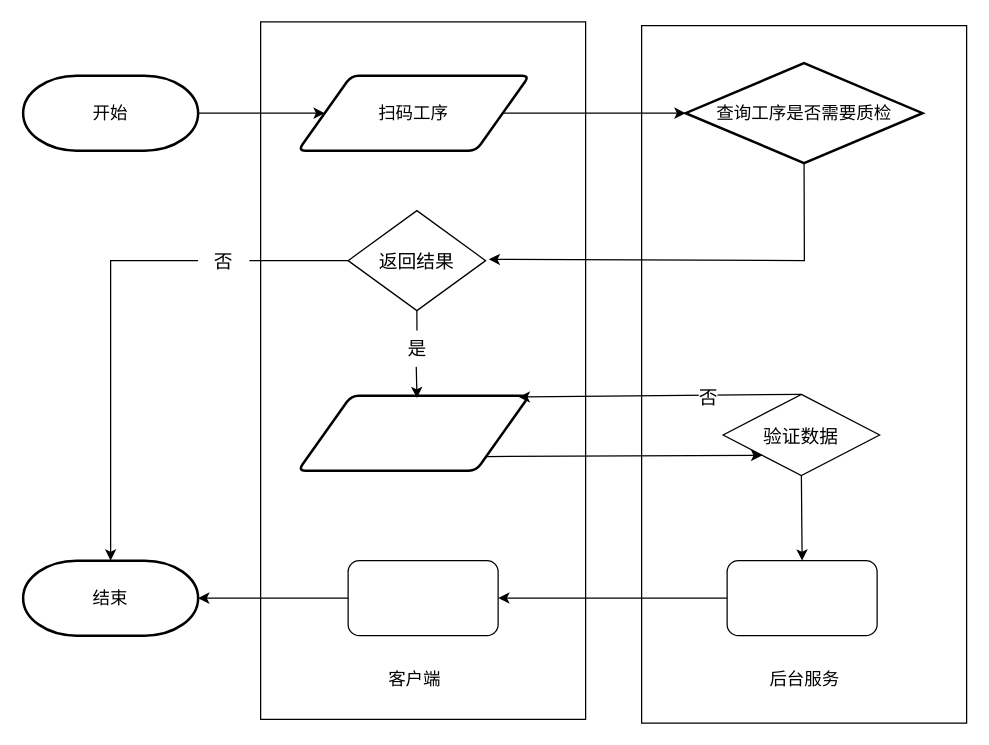
The diagram is 989 pixels wide and 745 high, and some of its shapes have lost their labels. The shapes that lost their labels are listed below. From the top down, each one's box as (x1, y1, x2, y2) in pixels, then its label:
(296, 394, 530, 471): 输入缺陷数量、类别等
(347, 559, 498, 636): 操作成功
(726, 559, 877, 636): 保存数据
